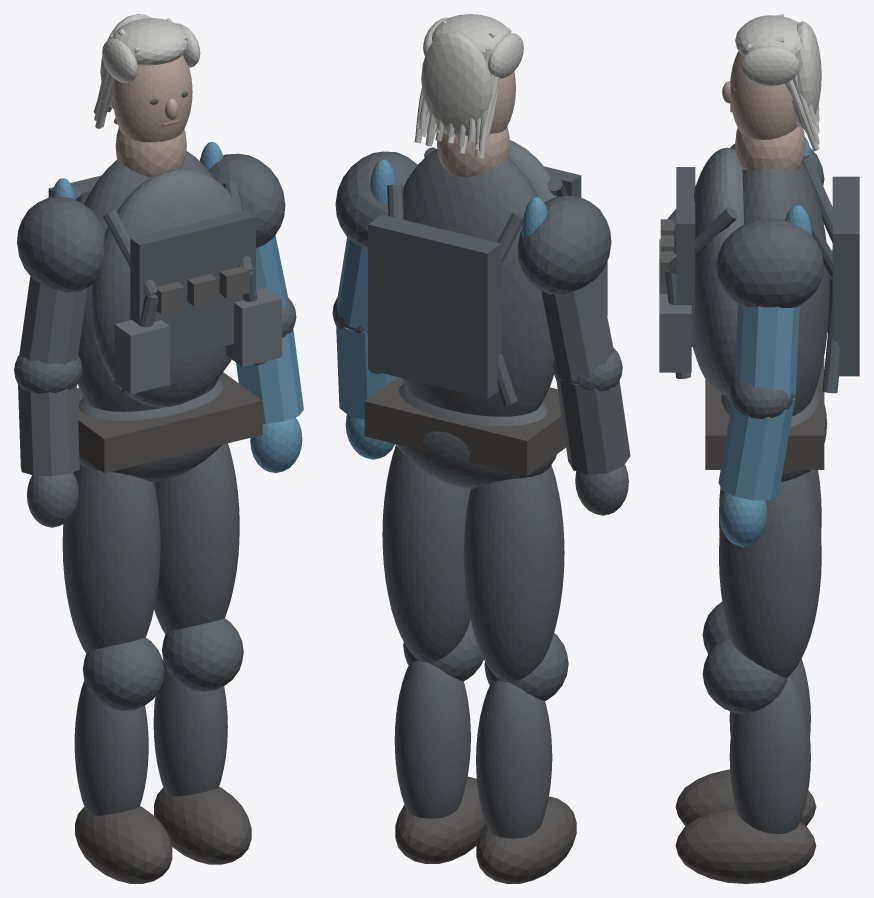
The model's file is ja_victorn_dreads.glb.
3 renders of one model, left to right at view 1: azimuth 30°, elevation 25°; view 2: azimuth 150°, elevation 25°; view 3: azimuth 270°, elevation 25°, orthographic. The views are drawn at different scales.
Parts seen in each view (by area): view 1: thigh_-1, thigh_1, vest, vest_plate, sleeve_-1, belt, shin_-1, shin_1, shoulder_-1, boot_-1, boot_1, torso_suit (+19 smaller); view 2: back_panel, thigh_-1, torso_suit, thigh_1, sleeve_-1, shin_1, shin_-1, belt, shoulder_-1, hair_back, sleeve_1, hips (+16 smaller); view 3: thigh_1, sleeve_1, shin_1, vest, shoulder_1, boot_1, torso_suit, back_panel, knee_1, belt, head, vest_plate (+17 smaller).
Boxes of the visible parts, x1=… form: thigh_-1: x1=62, y1=464, x2=160, y2=653; thigh_1: x1=154, y1=443, x2=239, y2=634; vest: x1=90, y1=168, x2=234, y2=407; vest_plate: x1=130, y1=210, x2=255, y2=359; sleeve_-1: x1=18, y1=276, x2=87, y2=476; belt: x1=77, y1=372, x2=262, y2=473; shin_-1: x1=74, y1=681, x2=148, y2=815; shin_1: x1=153, y1=661, x2=227, y2=796; shoulder_-1: x1=17, y1=197, x2=105, y2=292; boot_-1: x1=75, y1=806, x2=172, y2=883; boot_1: x1=154, y1=787, x2=251, y2=864; torso_suit: x1=77, y1=151, x2=219, y2=411; back_panel: x1=368, y1=214, x2=501, y2=398; thigh_-1: x1=463, y1=465, x2=564, y2=681; torso_suit: x1=402, y1=149, x2=553, y2=416; thigh_1: x1=382, y1=445, x2=470, y2=662; sleeve_-1: x1=541, y1=275, x2=630, y2=474; shin_1: x1=394, y1=660, x2=470, y2=818; shin_-1: x1=476, y1=680, x2=552, y2=838; belt: x1=364, y1=377, x2=565, y2=475; shoulder_-1: x1=517, y1=196, x2=611, y2=294; hair_back: x1=421, y1=32, x2=492, y2=137; sleeve_1: x1=336, y1=237, x2=397, y2=419; hips: x1=395, y1=383, x2=556, y2=488; thigh_1: x1=719, y1=472, x2=821, y2=677; sleeve_1: x1=718, y1=304, x2=799, y2=500; shin_1: x1=729, y1=675, x2=810, y2=833; vest: x1=692, y1=147, x2=743, y2=395; shoulder_1: x1=716, y1=218, x2=824, y2=307; boot_1: x1=675, y1=808, x2=816, y2=883; torso_suit: x1=727, y1=163, x2=829, y2=415; back_panel: x1=832, y1=176, x2=859, y2=376; knee_1: x1=702, y1=636, x2=788, y2=714; belt: x1=705, y1=358, x2=824, y2=469; head: x1=730, y1=51, x2=797, y2=139; vest_plate: x1=676, y1=167, x2=695, y2=346.
Size of the model in its own units: 0.5924 by 1.71 by 0.37.
